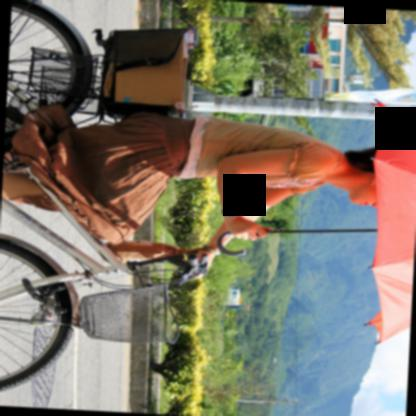handbag: (104, 241, 198, 264)
